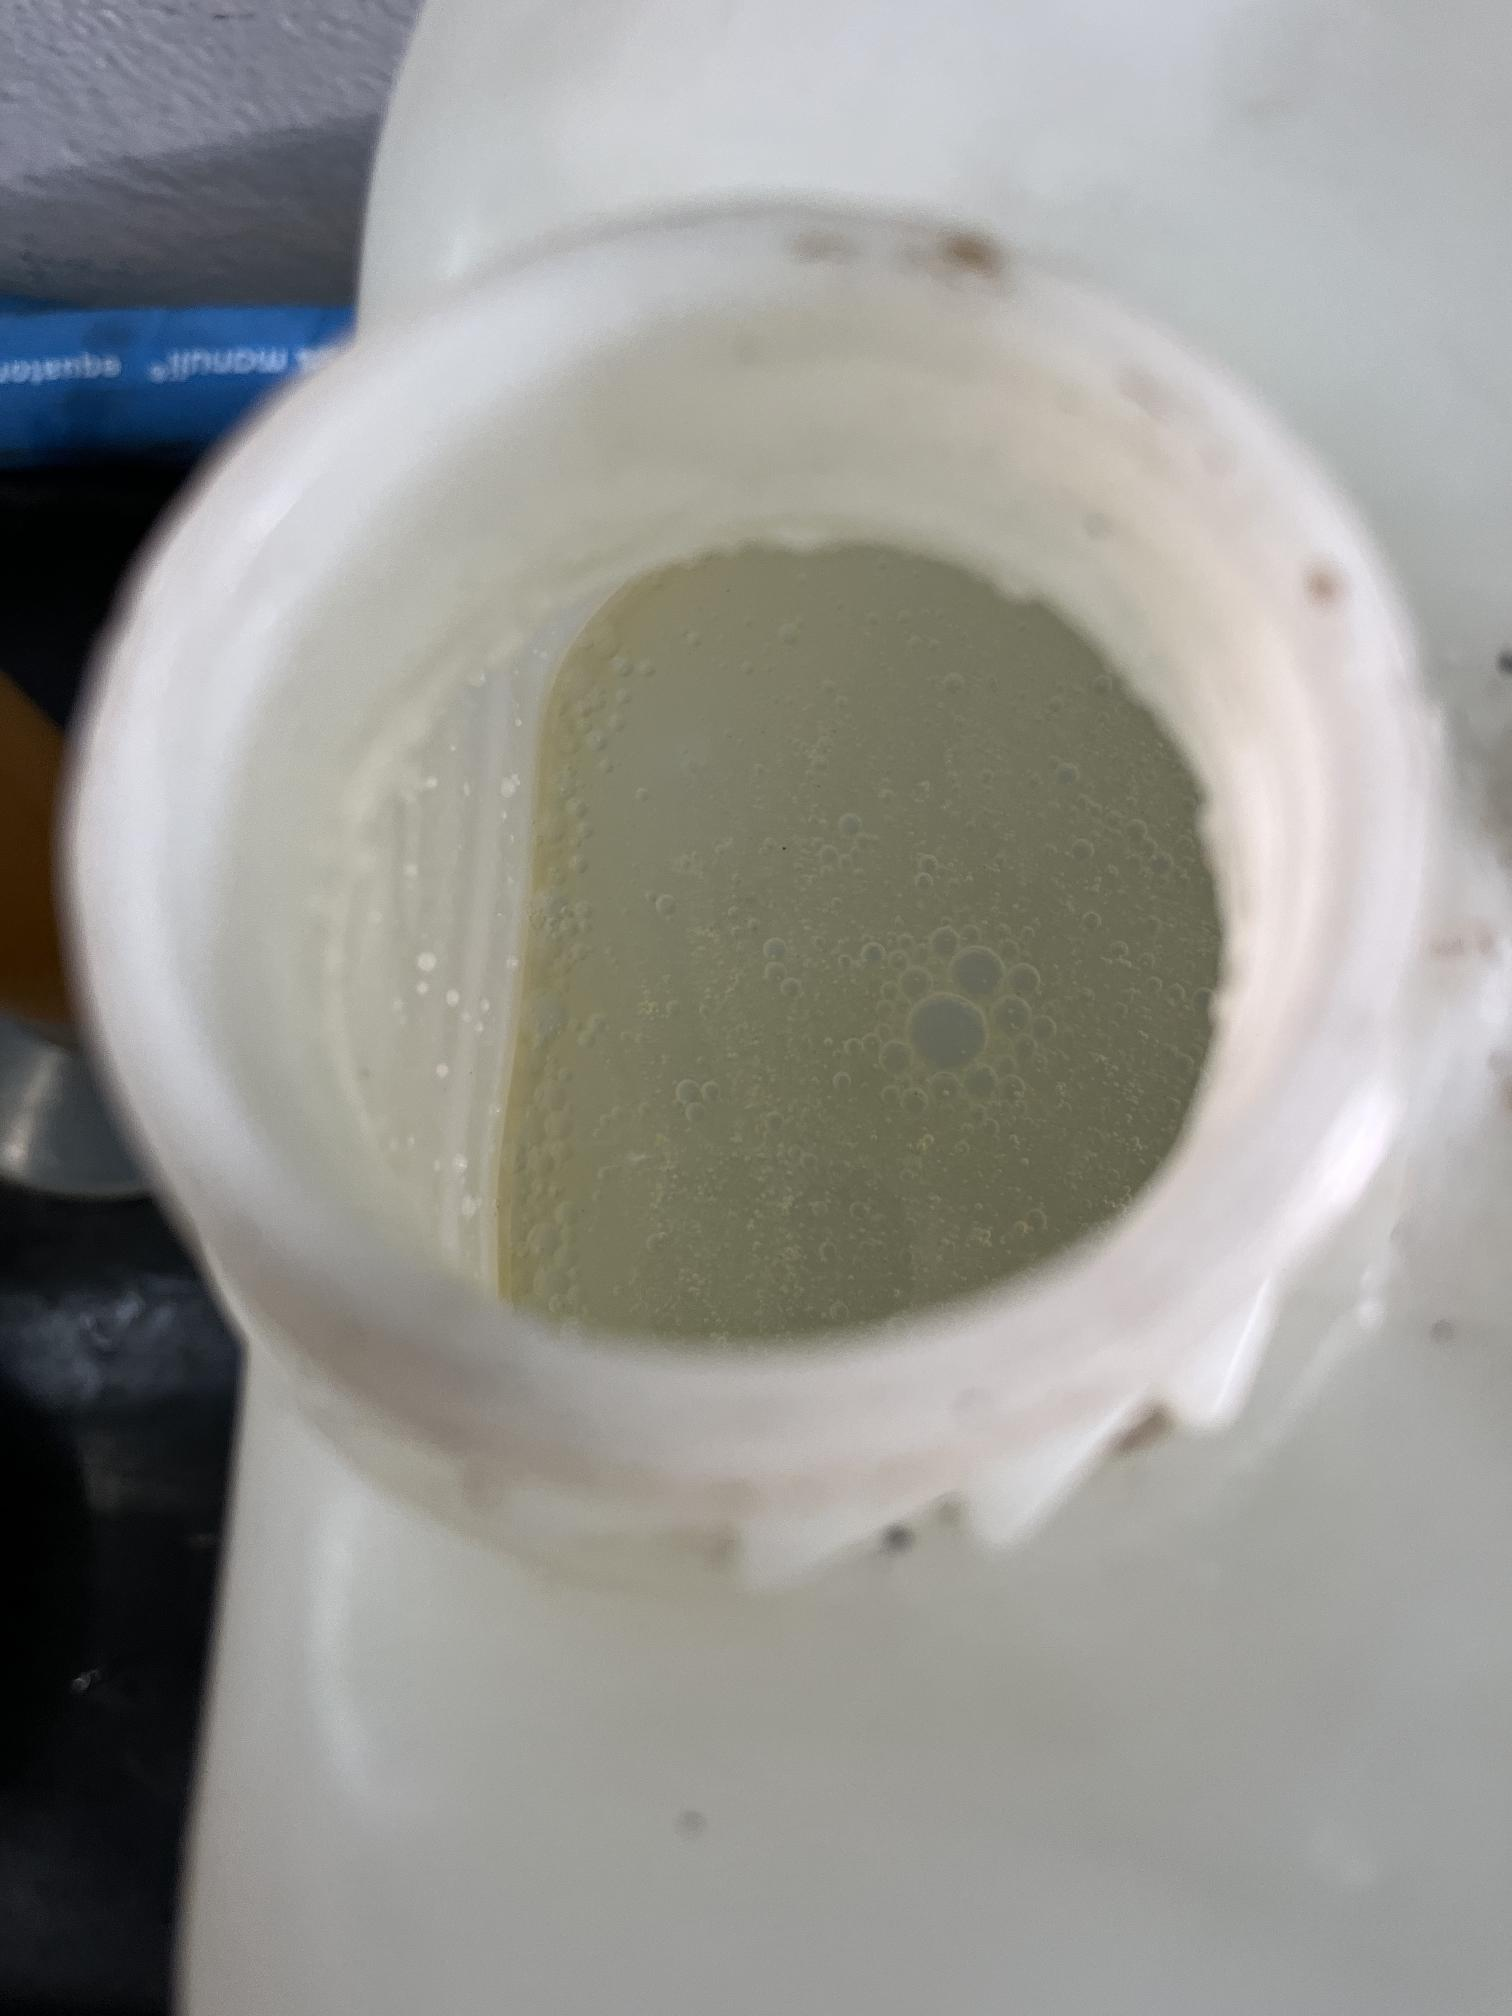Borda de Oleo - - 50ml: (226, 444, 1294, 1484)
